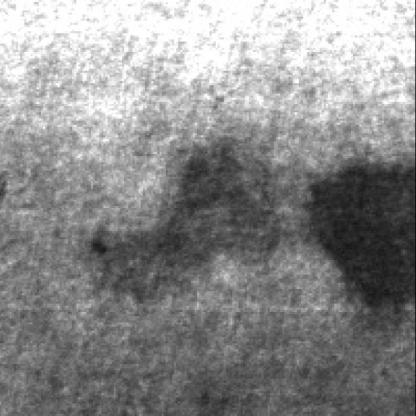patches: (104, 165, 289, 292), (310, 160, 416, 312)
